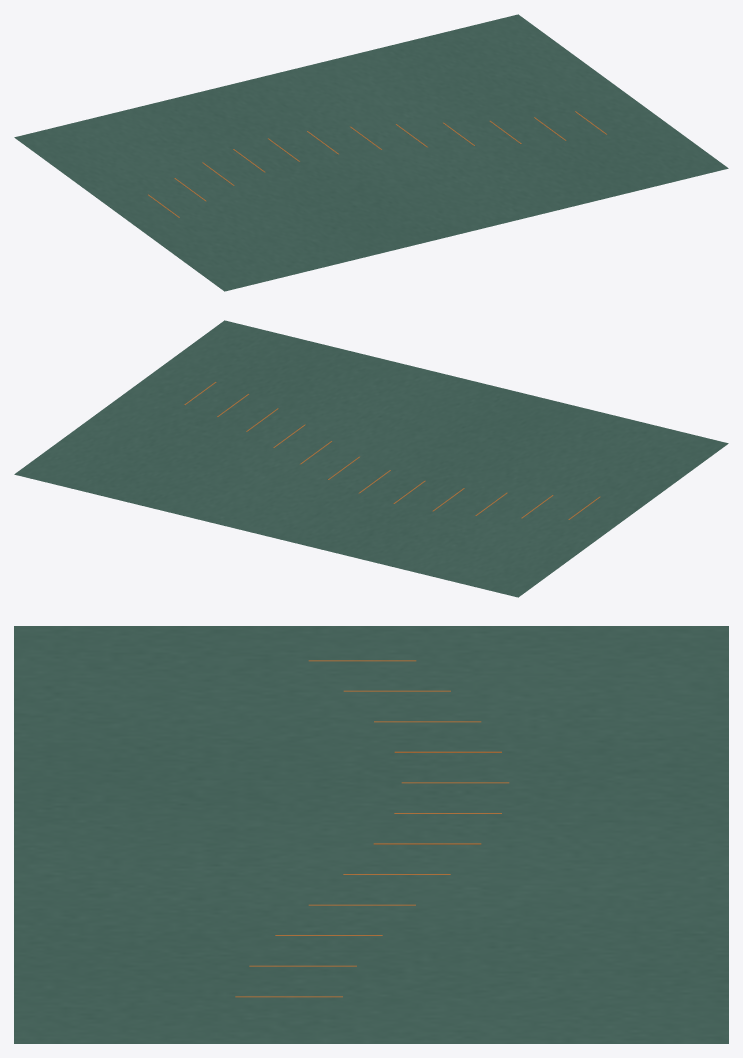
Rendered from 289_L120_L24_LayerReference.obj.
3 views of the same model, one above another, from view 1: azimuth 30°, elevation 25°; view 2: azimuth 150°, elevation 25°; view 3: azimuth 270°, elevation 25° (orthographic). The views are drawn at different scales.
Visible parts, largest first — view 1: 289_L120_L24_LayerReference; view 2: 289_L120_L24_LayerReference; view 3: 289_L120_L24_LayerReference.
Boxes of the visible parts, left/top/right/bottom form: 289_L120_L24_LayerReference: left=14, top=14, right=728, bottom=291; 289_L120_L24_LayerReference: left=14, top=320, right=728, bottom=597; 289_L120_L24_LayerReference: left=14, top=626, right=728, bottom=1043.
Bounding box in the file's own units: 0.506 × 7.6e-05 × 0.366.
2 materials, 2 textured.
